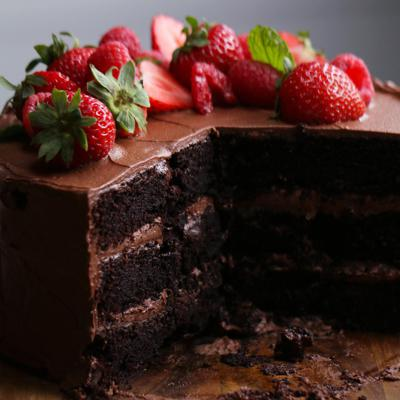cake: (6, 23, 399, 400)
